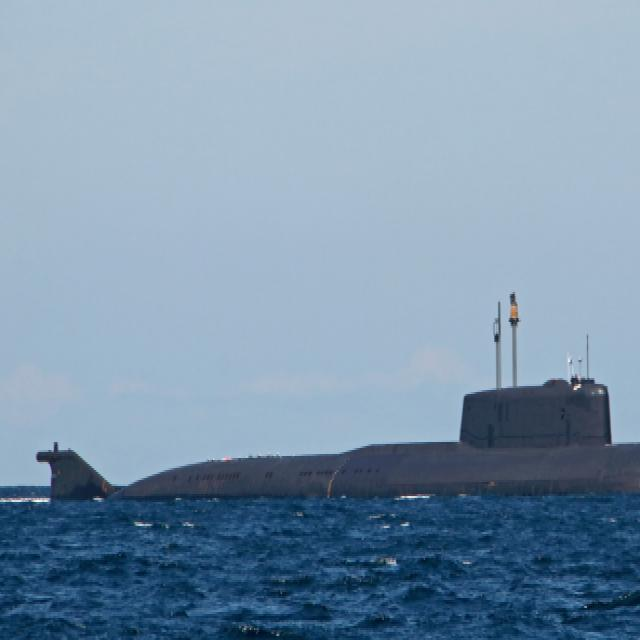submarine: (41, 379, 640, 489)
